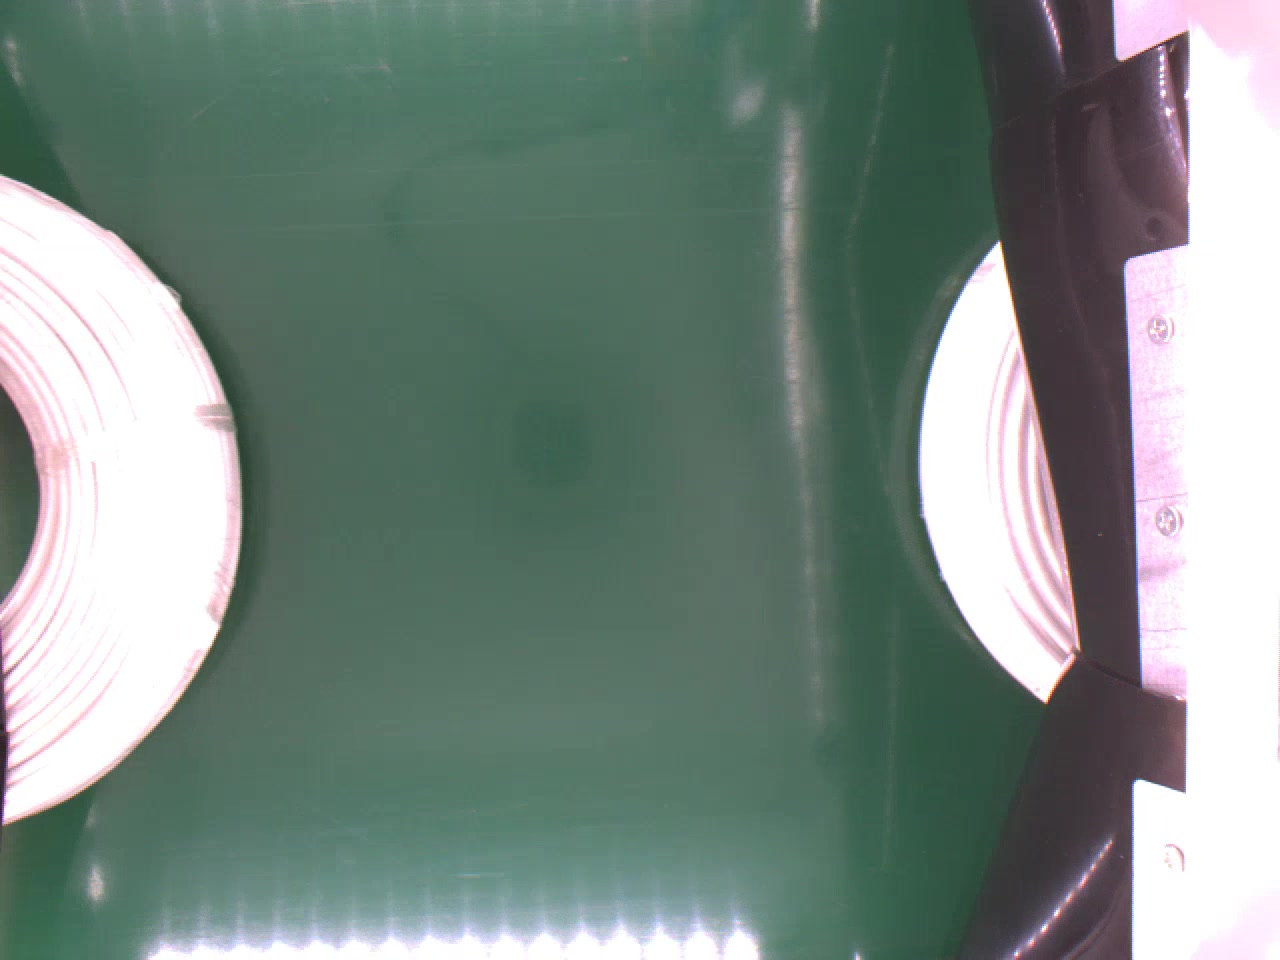white: (0, 167, 241, 826), (916, 233, 1072, 699)
